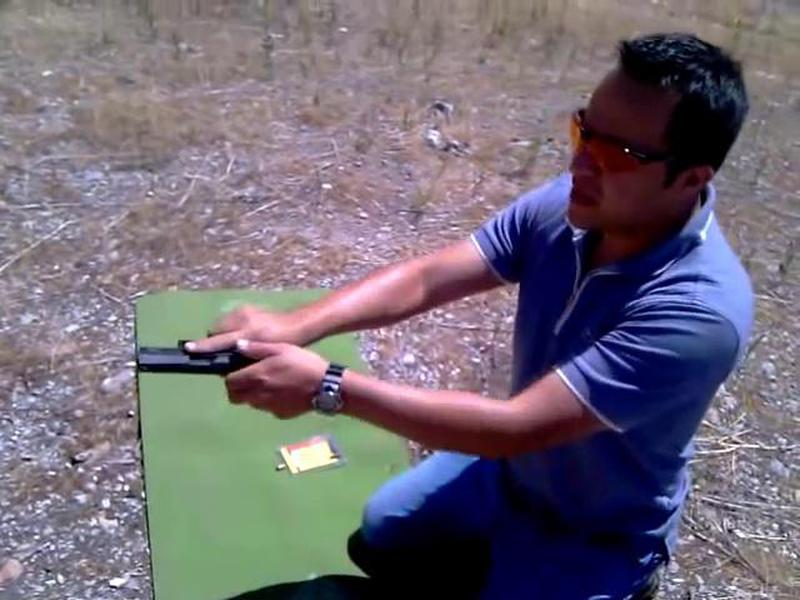Pistola: (128, 310, 285, 392)
